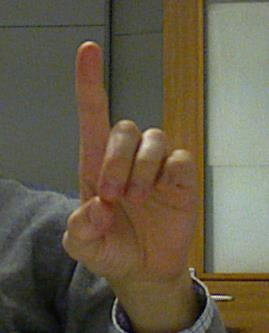up: (54, 34, 200, 281)
